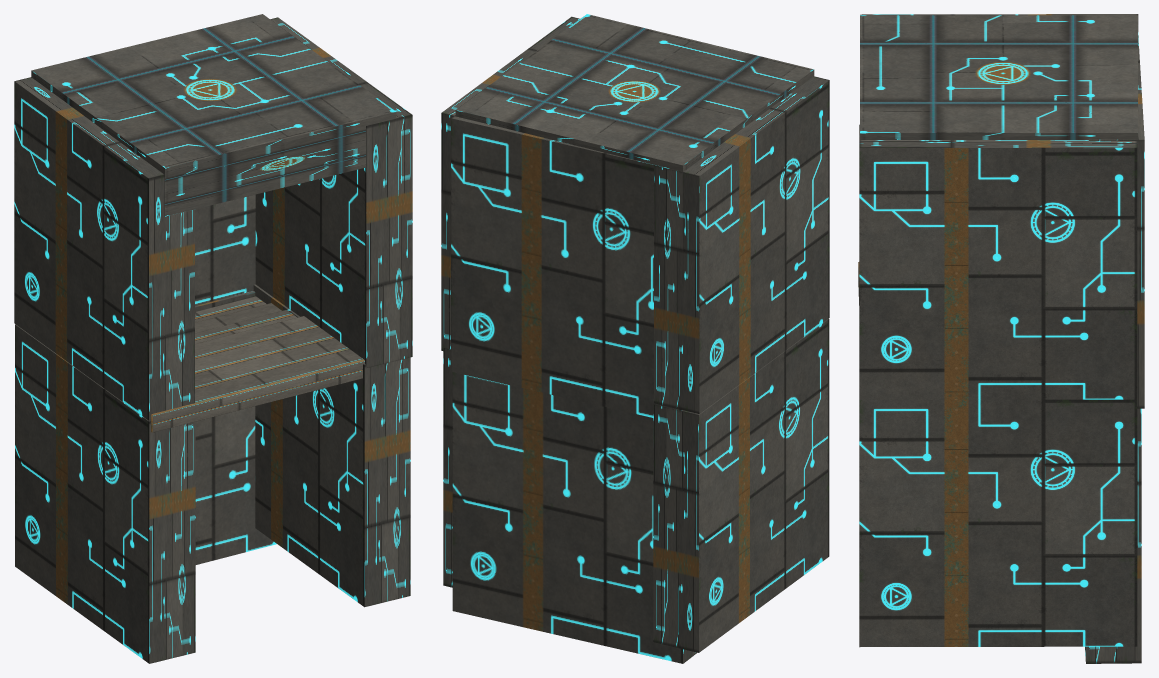
The model's file is Stairs.gltf.
3 views of the same model, side by side, from view 1: azimuth 30°, elevation 25°; view 2: azimuth 150°, elevation 25°; view 3: azimuth 270°, elevation 25° (orthographic). The views are drawn at different scales.
Parts seen in each view (by area): view 1: 立方体.001, 立方体.005, 立方体, 立方体.004, 立方体.002, pedestal, 立方体.007, 立方体.003; view 2: 立方体.003, 立方体.007, 立方体.001, 立方体.005, 立方体, 立方体.002, 立方体.004; view 3: 立方体.002, 立方体.004, 立方体, 立方体.003, 立方体.007, 立方体.001.
Boxes of the visible parts, bbox=[...] form: 立方体.001: bbox=[14, 77, 194, 420]; 立方体.005: bbox=[15, 324, 195, 663]; 立方体: bbox=[31, 14, 396, 216]; 立方体.004: bbox=[253, 284, 410, 607]; 立方体.002: bbox=[255, 17, 412, 368]; pedestal: bbox=[150, 296, 364, 432]; 立方体.007: bbox=[195, 291, 276, 564]; 立方体.003: bbox=[195, 194, 255, 305]; 立方体.003: bbox=[451, 115, 681, 417]; 立方体.007: bbox=[452, 372, 696, 663]; 立方体.001: bbox=[654, 76, 829, 413]; 立方体.005: bbox=[653, 319, 829, 652]; 立方体: bbox=[455, 14, 814, 171]; 立方体.002: bbox=[441, 16, 579, 350]; 立方体.004: bbox=[443, 347, 452, 587]; 立方体.002: bbox=[859, 124, 1137, 399]; 立方体.004: bbox=[859, 399, 1137, 647]; 立方体: bbox=[860, 15, 1137, 139]; 立方体.003: bbox=[1089, 32, 1144, 408]; 立方体.007: bbox=[1085, 408, 1141, 663]; 立方体.001: bbox=[860, 14, 1138, 37].
Size of the model in its own units: 11.42 by 21.03 by 10.31.
Materials: 8 (8 with a texture image).
